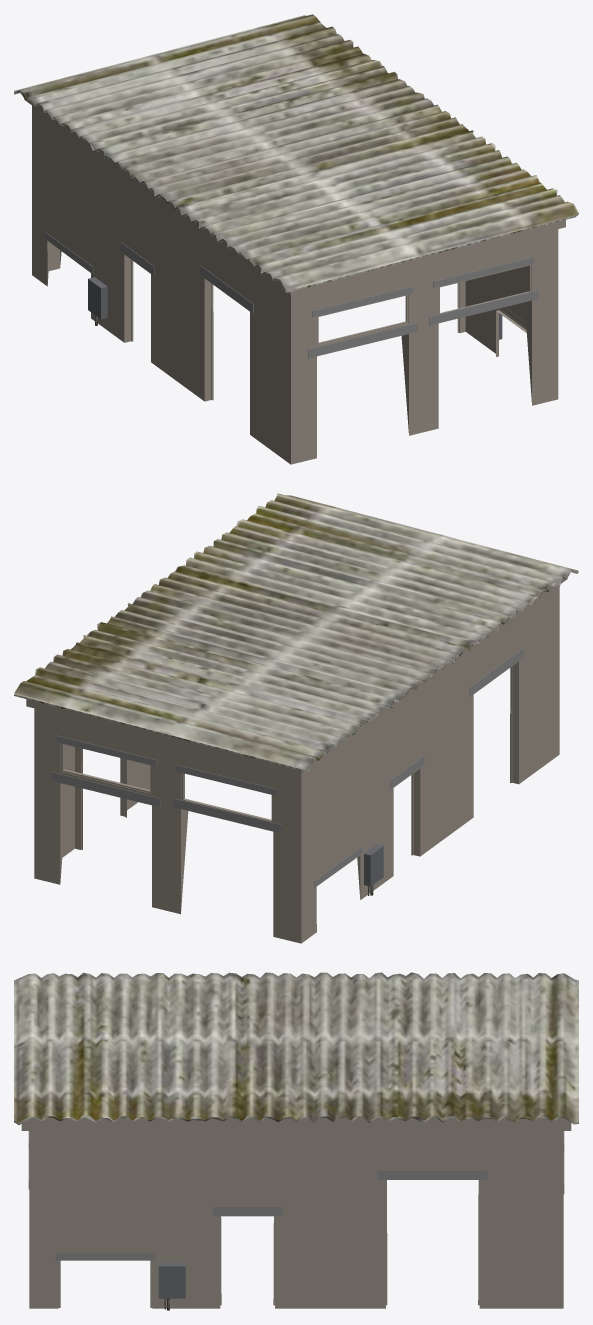
Rendered from garage.lod1.glb.
3 renders of one model, top to bottom at view 1: azimuth 30°, elevation 25°; view 2: azimuth 150°, elevation 25°; view 3: azimuth 270°, elevation 25°, orthographic. The views are drawn at different scales.
Parts seen in each view (by area): view 1: Box001_Material #2100603824_0, Box001_Material #2100603827_0; view 2: Box001_Material #2100603824_0, Box001_Material #2100603827_0; view 3: Box001_Material #2100603824_0, Box001_Material #2100603827_0.
Part boxes in pixels (x1,y1,x2,y2): Box001_Material #2100603824_0: (14,14,578,292); Box001_Material #2100603827_0: (24,99,565,464); Box001_Material #2100603824_0: (14,493,578,771); Box001_Material #2100603827_0: (26,578,567,943); Box001_Material #2100603824_0: (14,972,578,1124); Box001_Material #2100603827_0: (21,1116,571,1308).
Size of the model in its own units: 5.07 by 3.11 by 8.
Materials: 3 (2 with a texture image).
